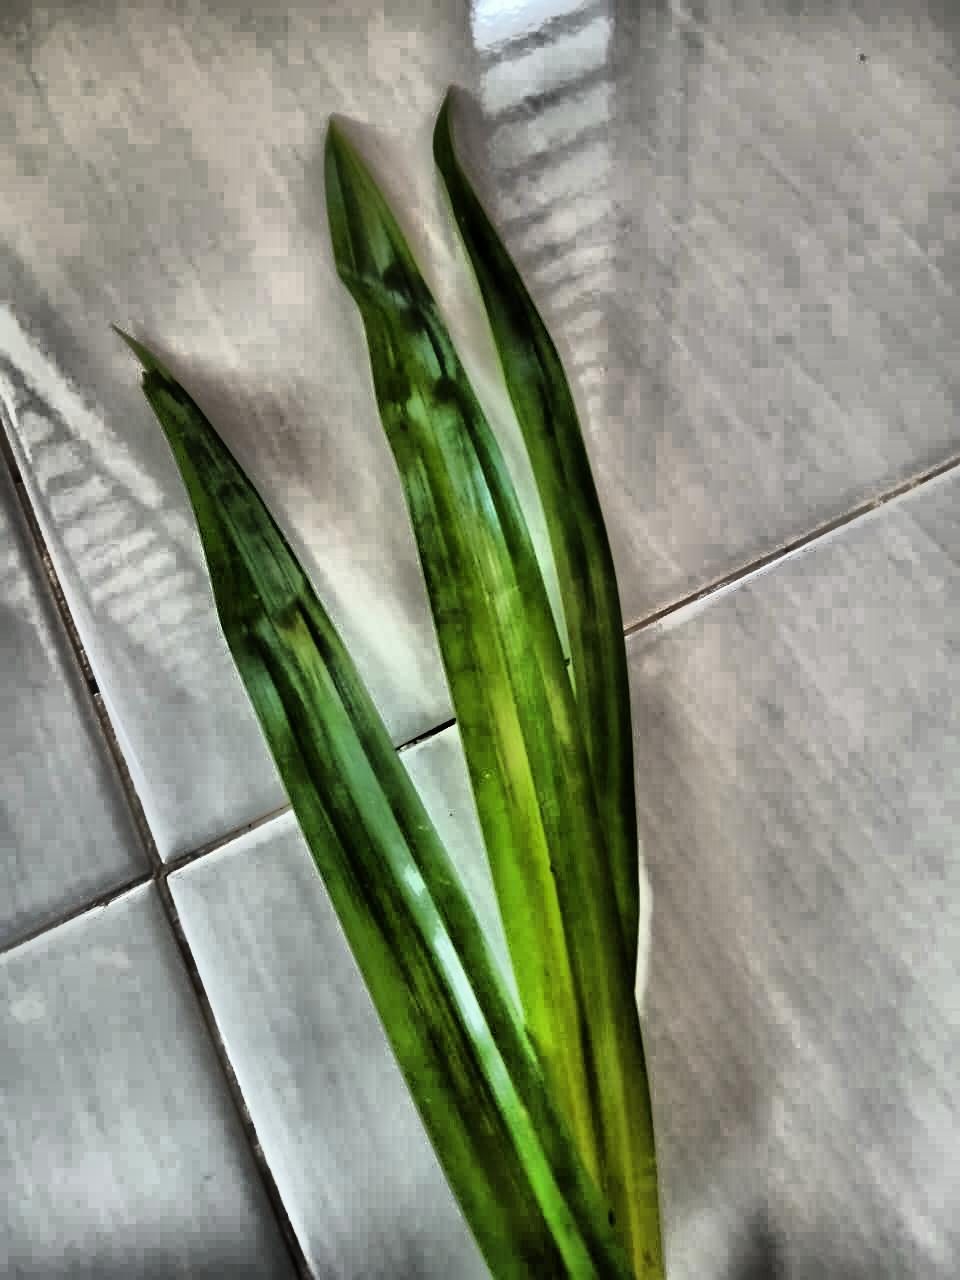daun pandan: (128, 97, 664, 1279)
